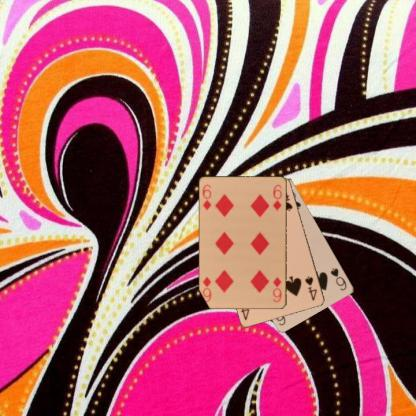4s: (302, 274, 318, 302)
6d: (200, 182, 212, 211), (271, 275, 283, 303)
6s: (328, 265, 348, 292)
